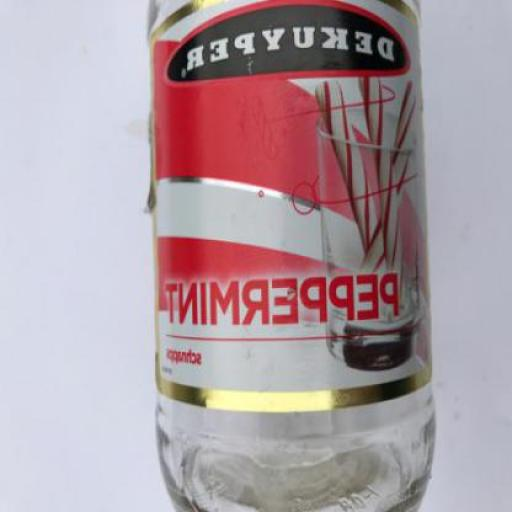glass: (145, 1, 437, 511)
